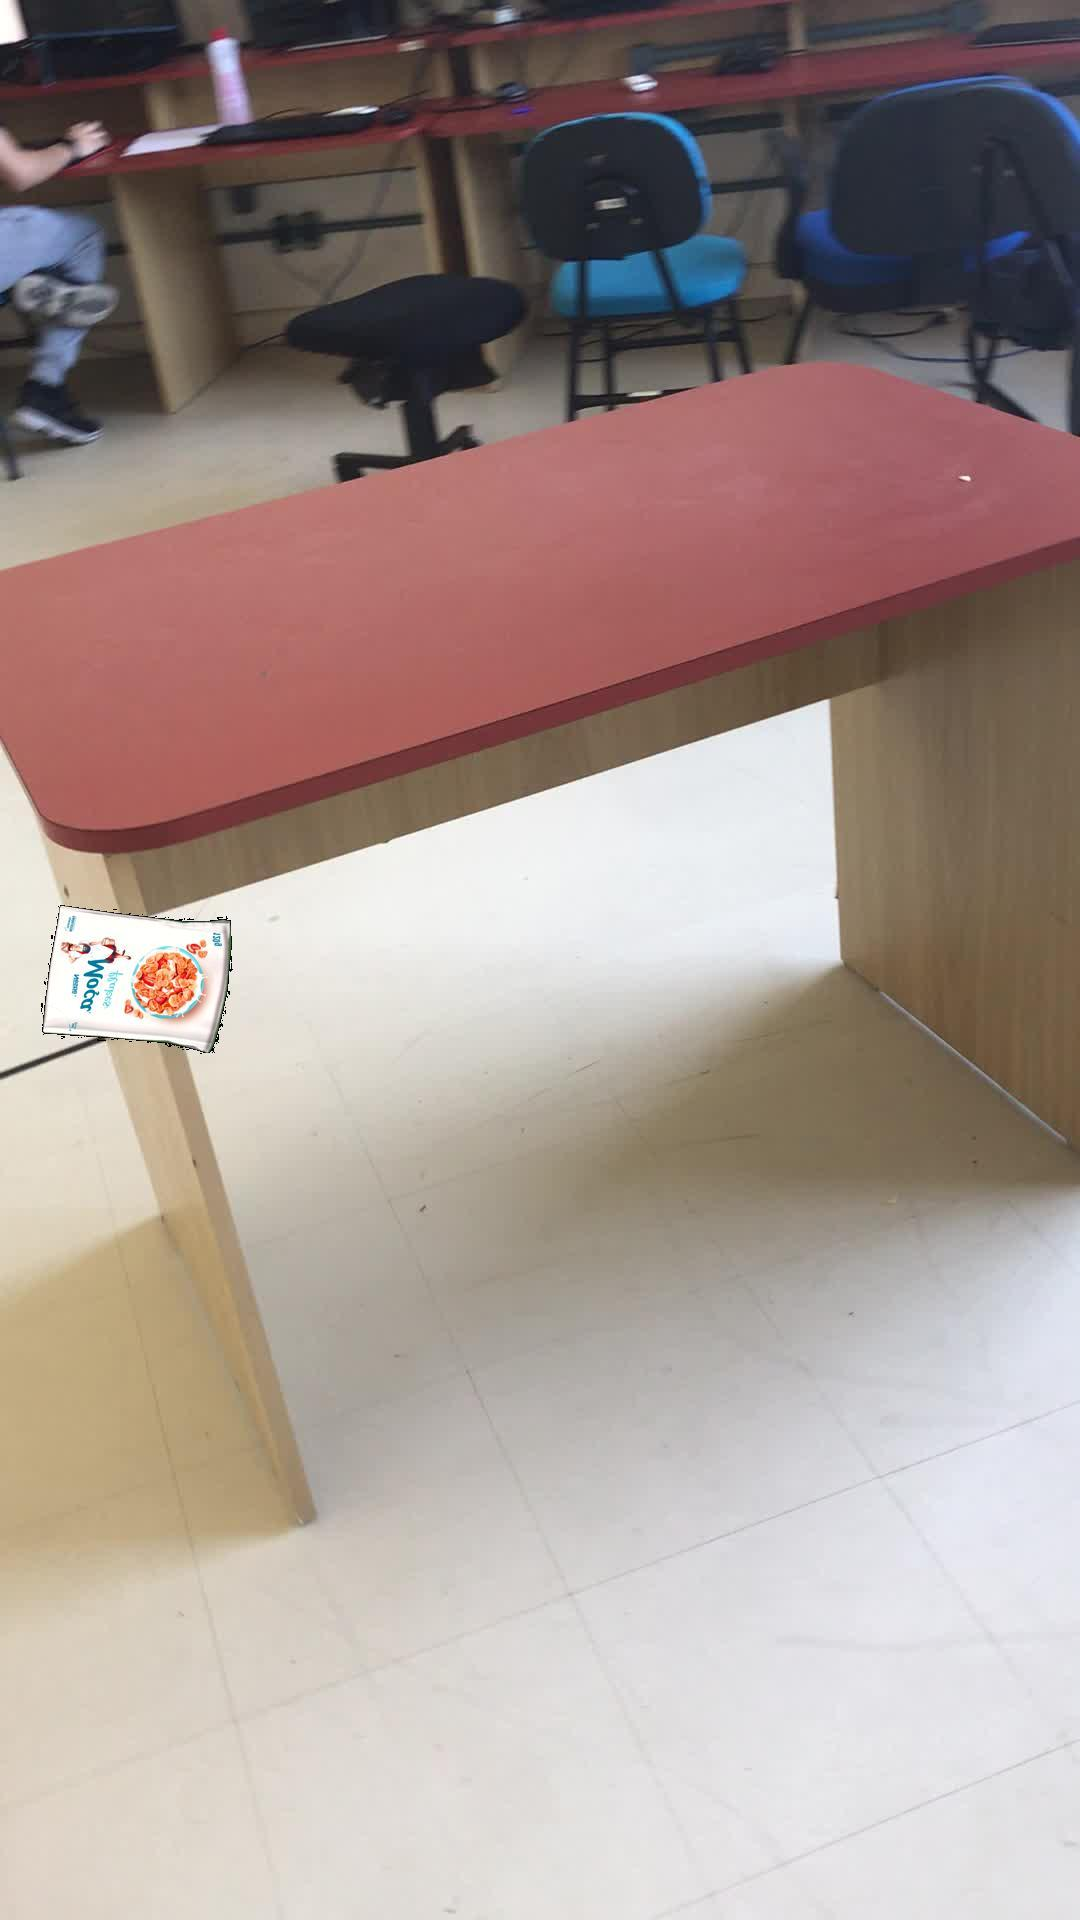corn flakes: (41, 903, 232, 1051)
